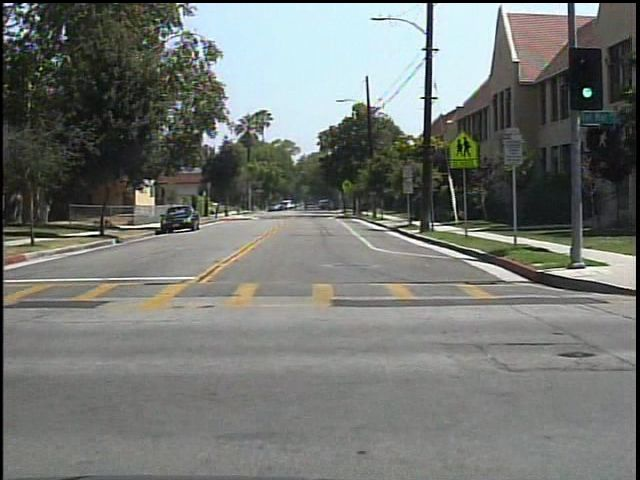person: (299, 198, 314, 215)
